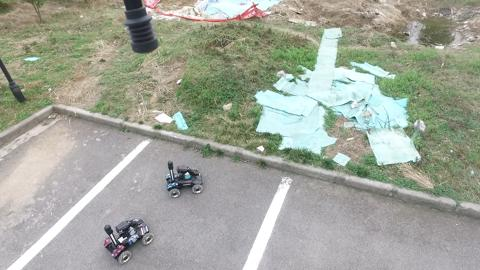chariot: (99, 214, 155, 265), (156, 158, 208, 200)
